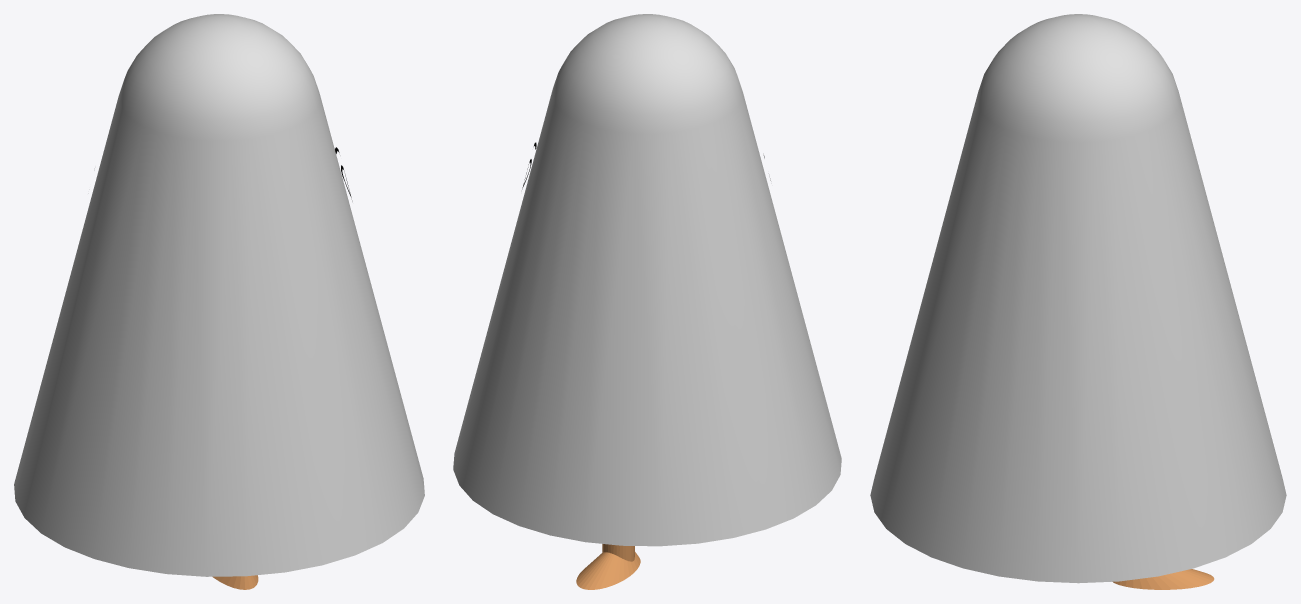
Rendered from Medjed.glb.
The picture shows the model from 3 angles, left to right: view 1: azimuth 30°, elevation 25°; view 2: azimuth 150°, elevation 25°; view 3: azimuth 270°, elevation 25°; orthographic projection. The views are drawn at different scales.
Parts seen in each view (by area): view 1: Body; view 2: Body, Foot_r; view 3: Body, Foot_r.
Part boxes in pixels (left/top/right/bottom): Body: left=14, top=14, right=424, bottom=576; Body: left=453, top=14, right=841, bottom=546; Foot_r: left=576, top=544, right=640, bottom=589; Body: left=870, top=14, right=1286, bottom=583; Foot_r: left=1112, top=569, right=1214, bottom=589.
Size of the model in its own units: 2 by 2.94 by 2.
1 material, 1 textured.
